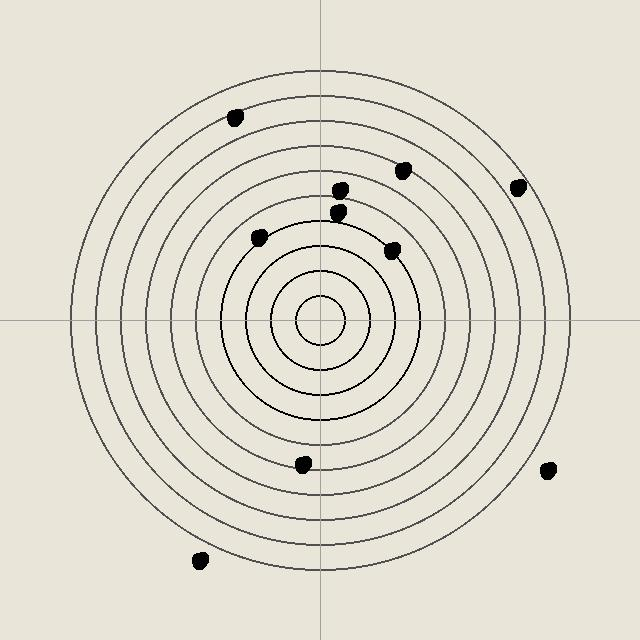random_scatter: (507, 177, 527, 197), (537, 460, 557, 480), (392, 160, 412, 180), (189, 550, 209, 570), (381, 240, 401, 260), (329, 180, 349, 200), (292, 454, 312, 474), (224, 107, 244, 127), (248, 227, 268, 247), (327, 202, 347, 222)
